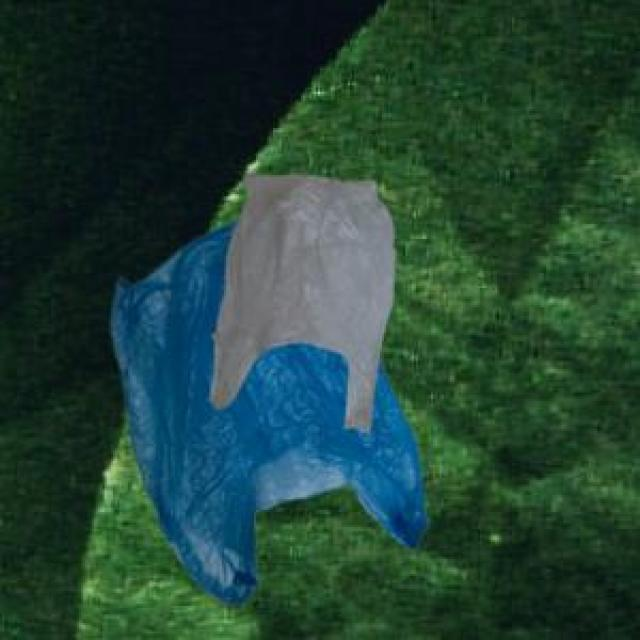waste: (120, 178, 429, 607)
